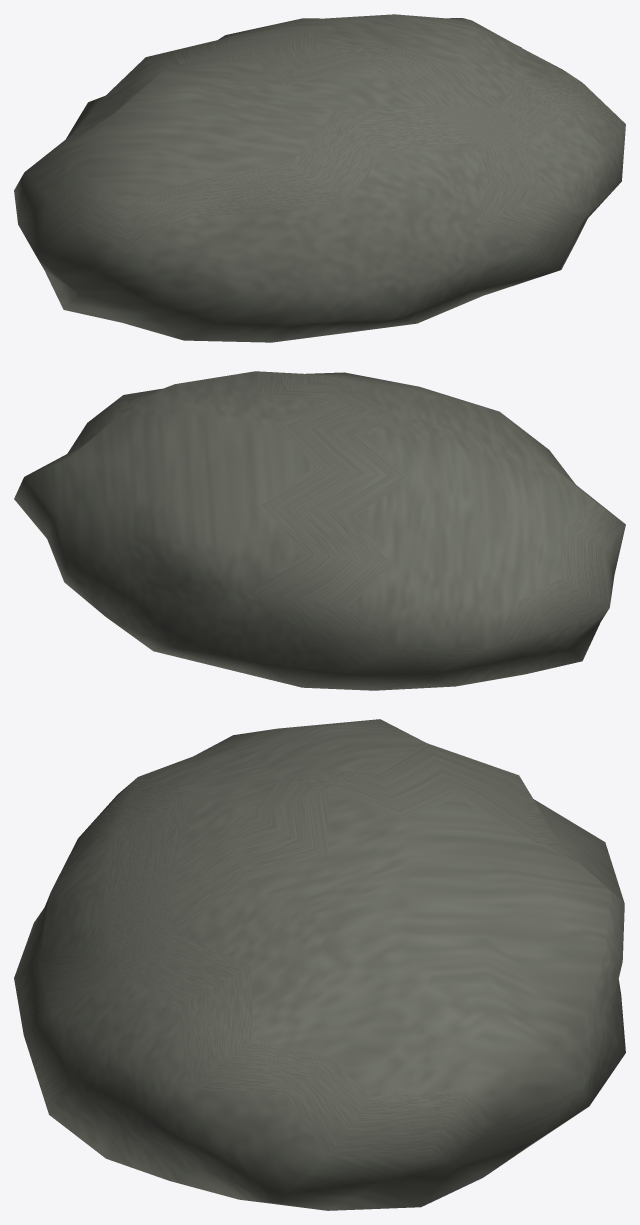
The model's file is stone.fbx.
The picture shows the model from 3 angles, top to bottom: view 1: azimuth 30°, elevation 25°; view 2: azimuth 150°, elevation 25°; view 3: azimuth 270°, elevation 25°; orthographic projection. The views are drawn at different scales.
Visible parts, largest first — view 1: stone; view 2: stone; view 3: stone.
Boxes of the visible parts, bbox=[...] form: stone: bbox=[14, 14, 625, 342]; stone: bbox=[14, 371, 625, 690]; stone: bbox=[14, 719, 625, 1210].
Size of the model in its own units: 5.35 by 1.82 by 3.79.
